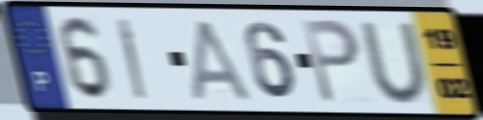6: (55, 13, 117, 103), (242, 19, 298, 101)
A: (190, 17, 255, 103)
I: (114, 16, 149, 102)
P: (299, 17, 363, 107)
U: (356, 19, 433, 106)
